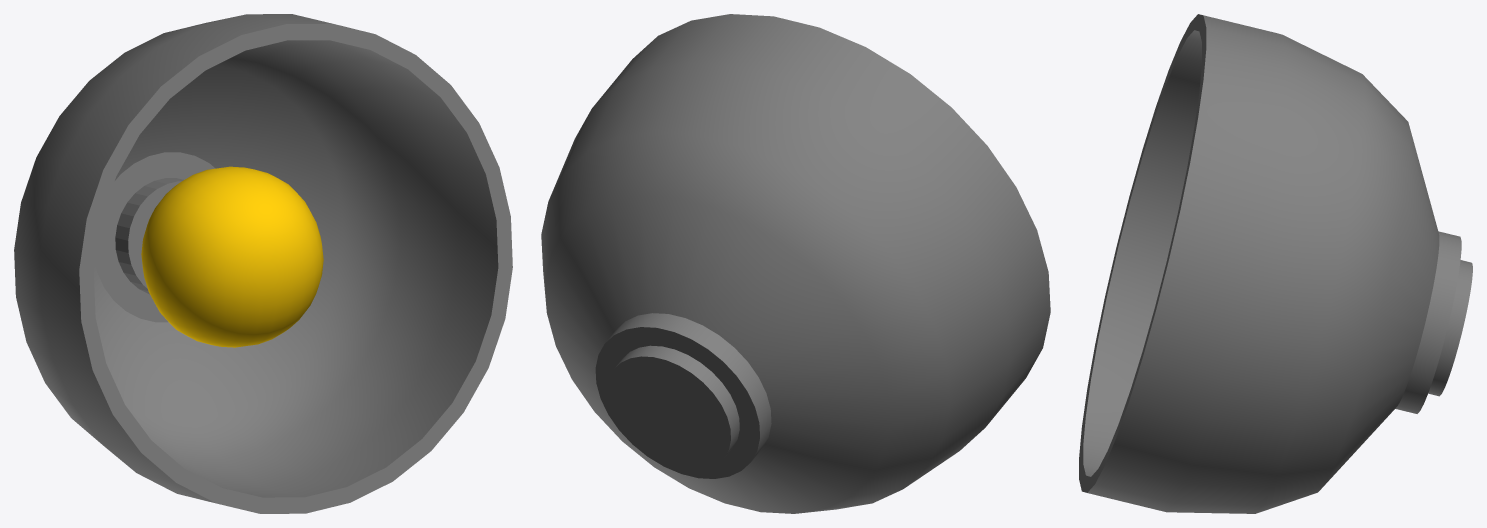
File: SM_Light_01.fbx
3 views of the same model, side by side, from view 1: azimuth 30°, elevation 25°; view 2: azimuth 150°, elevation 25°; view 3: azimuth 270°, elevation 25° (orthographic). The views are drawn at different scales.
Parts seen in each view (by area): view 1: SM_Light_01; view 2: SM_Light_01; view 3: SM_Light_01.
Boxes of the visible parts, box(x1,y1,x2,y2) form: SM_Light_01: box(14, 14, 512, 513); SM_Light_01: box(541, 14, 1050, 513); SM_Light_01: box(1079, 14, 1472, 513).
Size of the model in its own units: 47.19 by 47.74 by 37.6.
